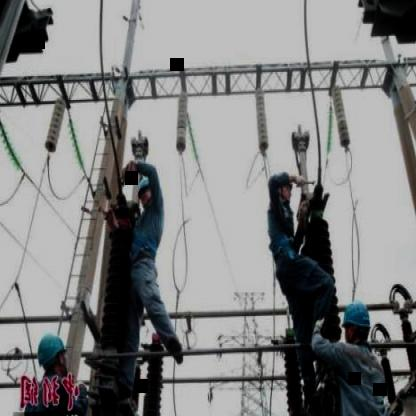helmet: (341, 299, 375, 345), (36, 330, 68, 378), (136, 176, 157, 212)
